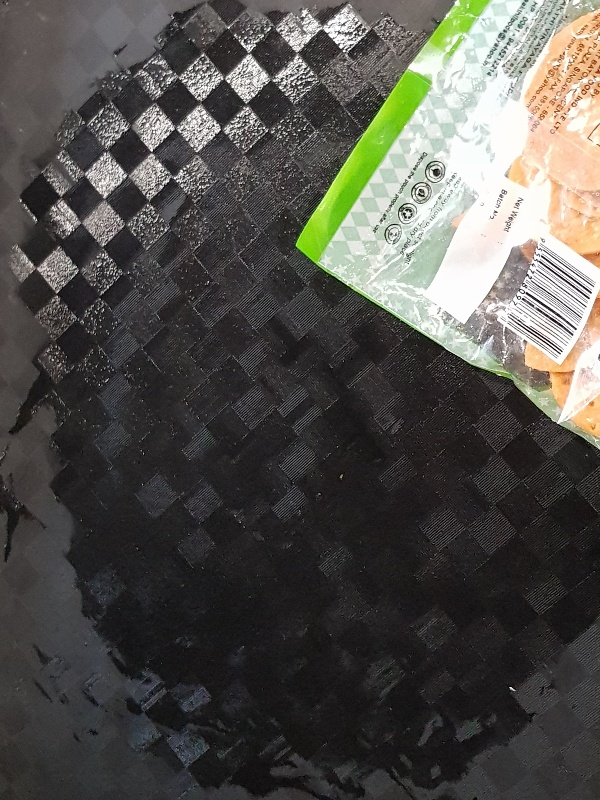Star Tidbits 'O' Ring: (291, 1, 600, 449)
